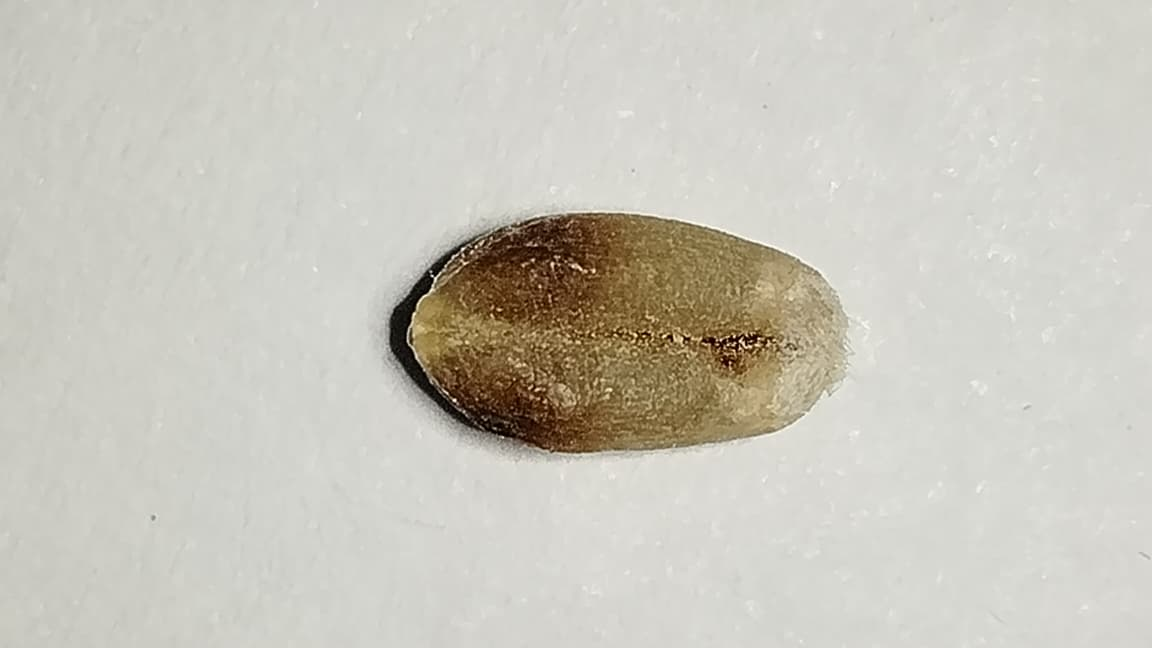damage: (408, 213, 846, 450)
staindamage: (429, 213, 629, 456), (695, 317, 803, 383)
